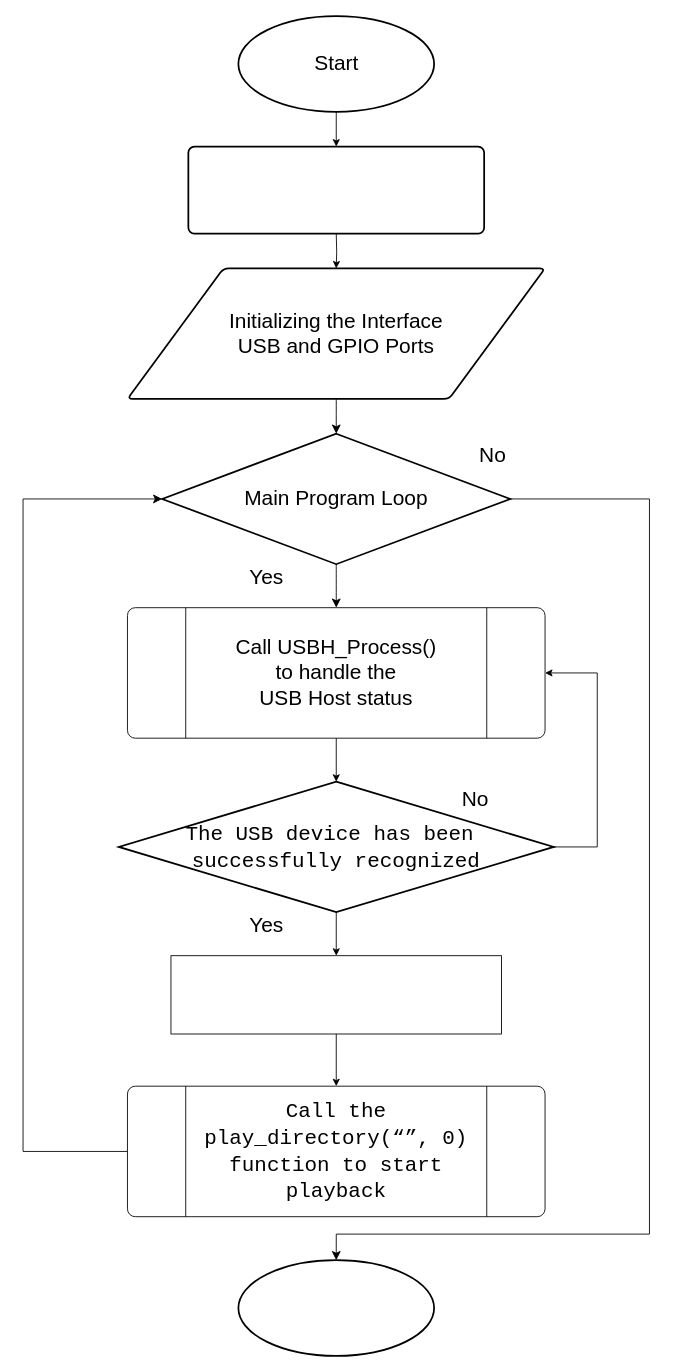
The diagram is 673 pixels wide and 1371 high, and some of its shapes have lost their labels. Each missing label, with the centre of its shape:
Clear the enumeration flag (set to 0): the point at 336,994
Configuring System Interrupts and Frequencies: the point at 336,189
End: the point at 336,1307
